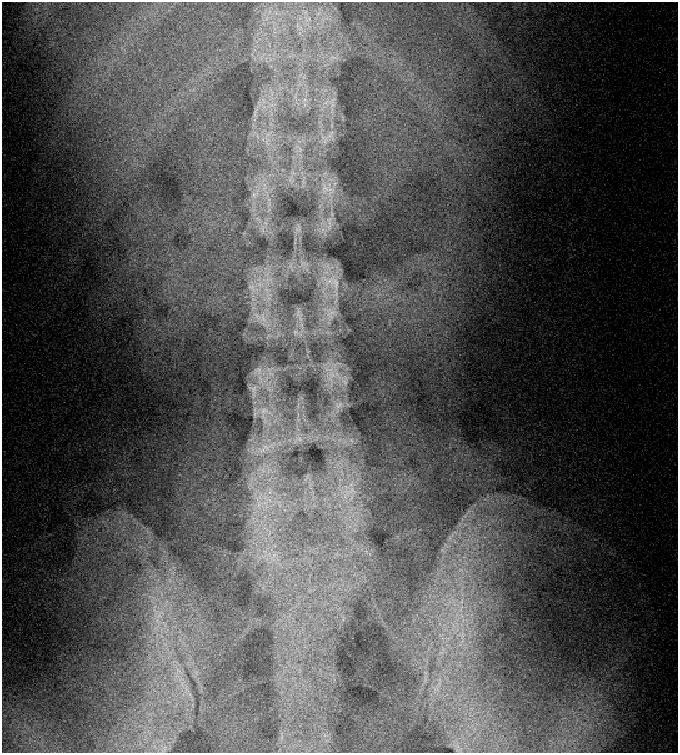lumbar scoliosis: (238, 141, 384, 536)
